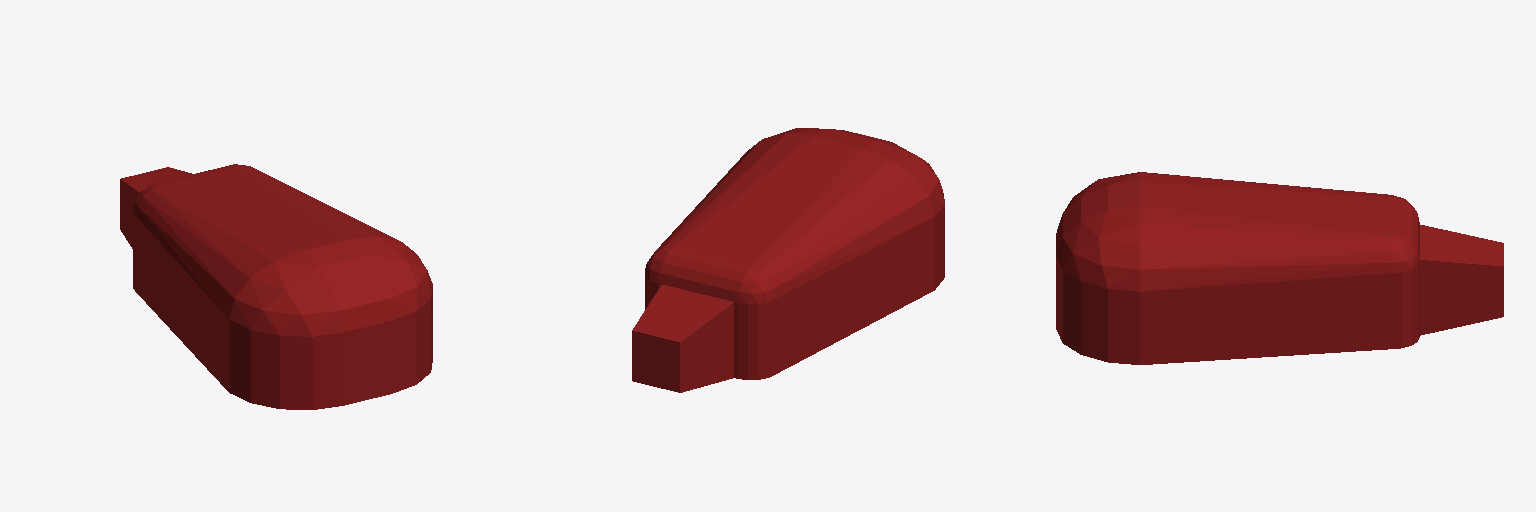
Rendered from RoadLight1_broken.obj.
The picture shows the model from 3 angles: view 1: azimuth 30°, elevation 25°; view 2: azimuth 150°, elevation 25°; view 3: azimuth 270°, elevation 25°; orthographic projection.
Size of the model in its own units: 1 by 0.6125 by 2.